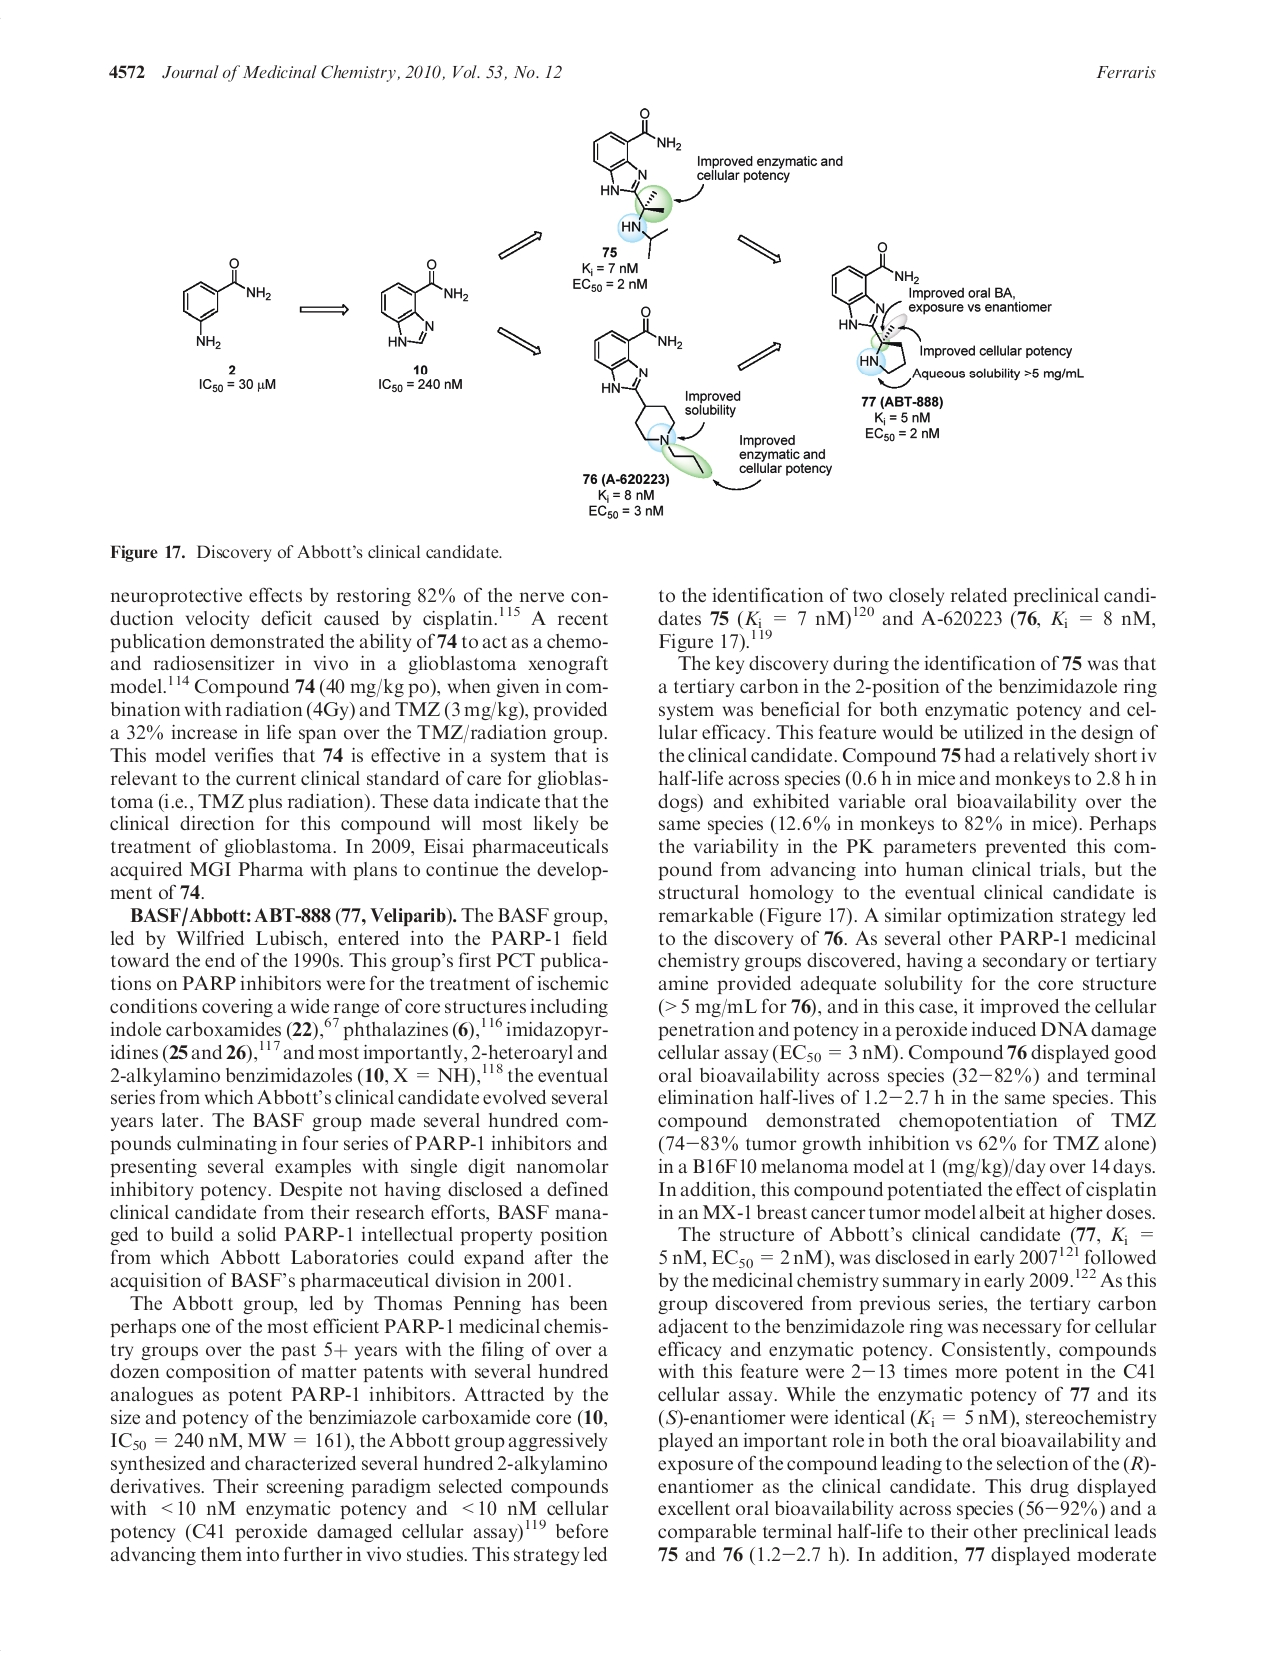exist_molecular: (592, 303, 711, 479), (590, 102, 682, 262), (824, 238, 920, 374), (370, 253, 477, 351), (177, 251, 275, 355)
